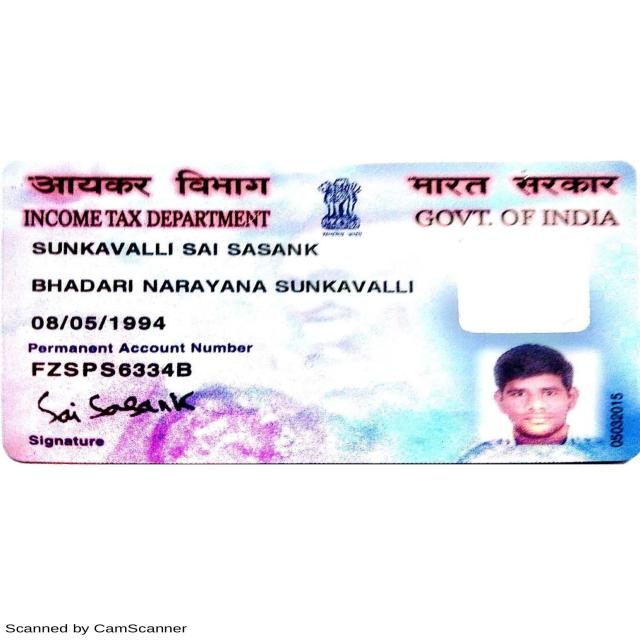pan_card: (0, 163, 638, 459)
